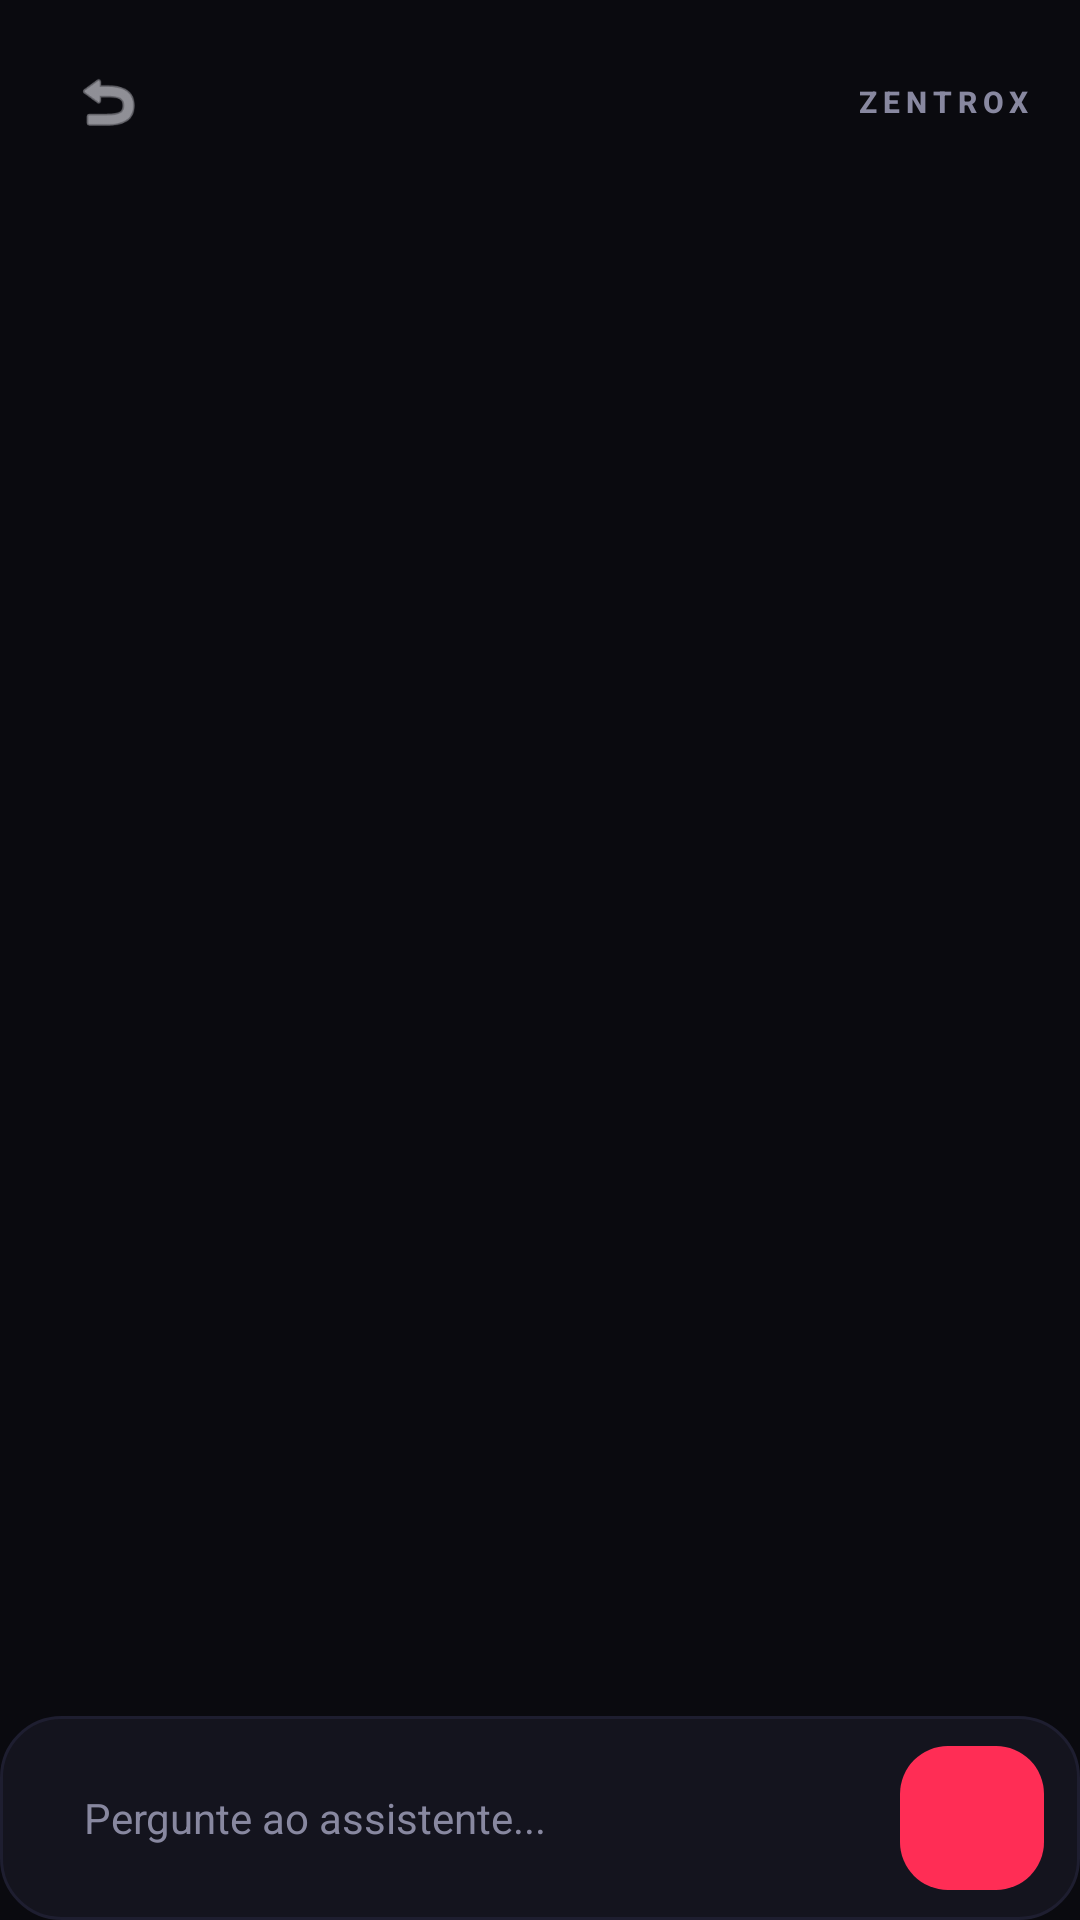

Where icons sit on this 1080×1920 app screen, as (x1, y1, x2, y2):
Voltar: (83, 79, 135, 126)
